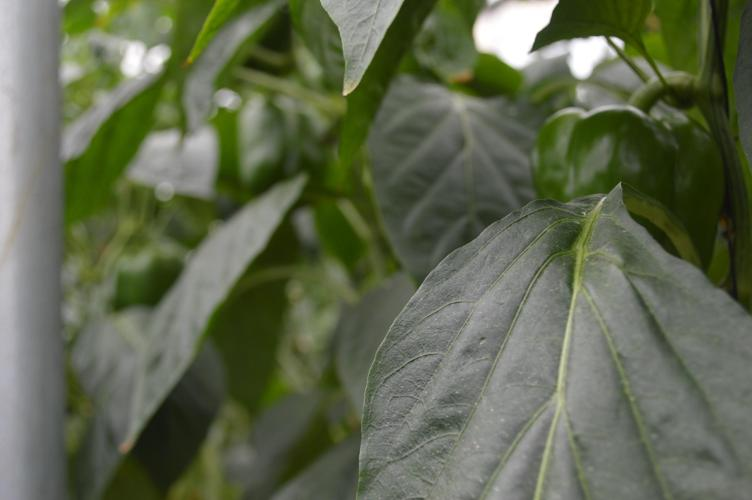BellPepper: (532, 107, 718, 265)
